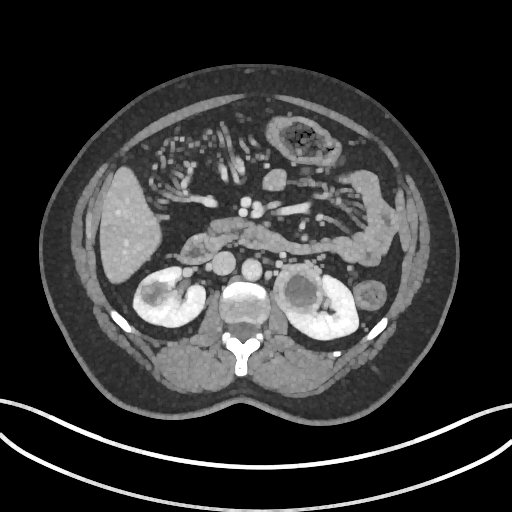Lesion: (136, 280, 173, 309)
